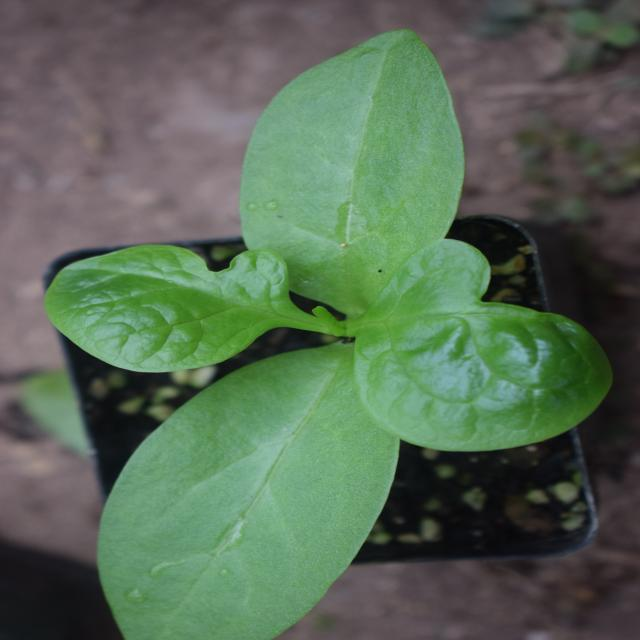Ceylon spinach: (10, 53, 582, 610)
